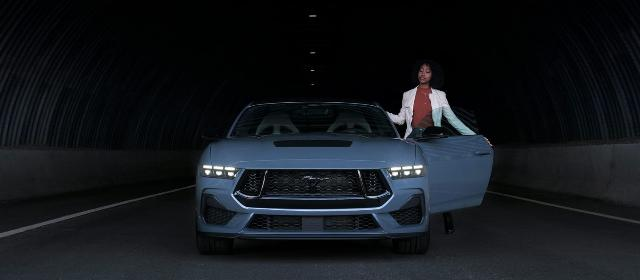ford-mustang: (196, 100, 494, 256)
